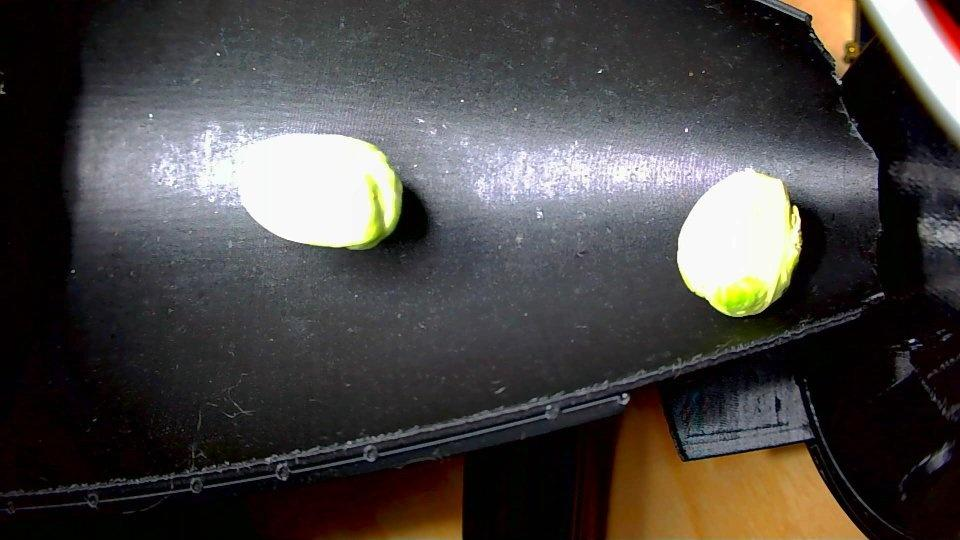berry: (235, 134, 402, 249), (676, 169, 801, 316)
